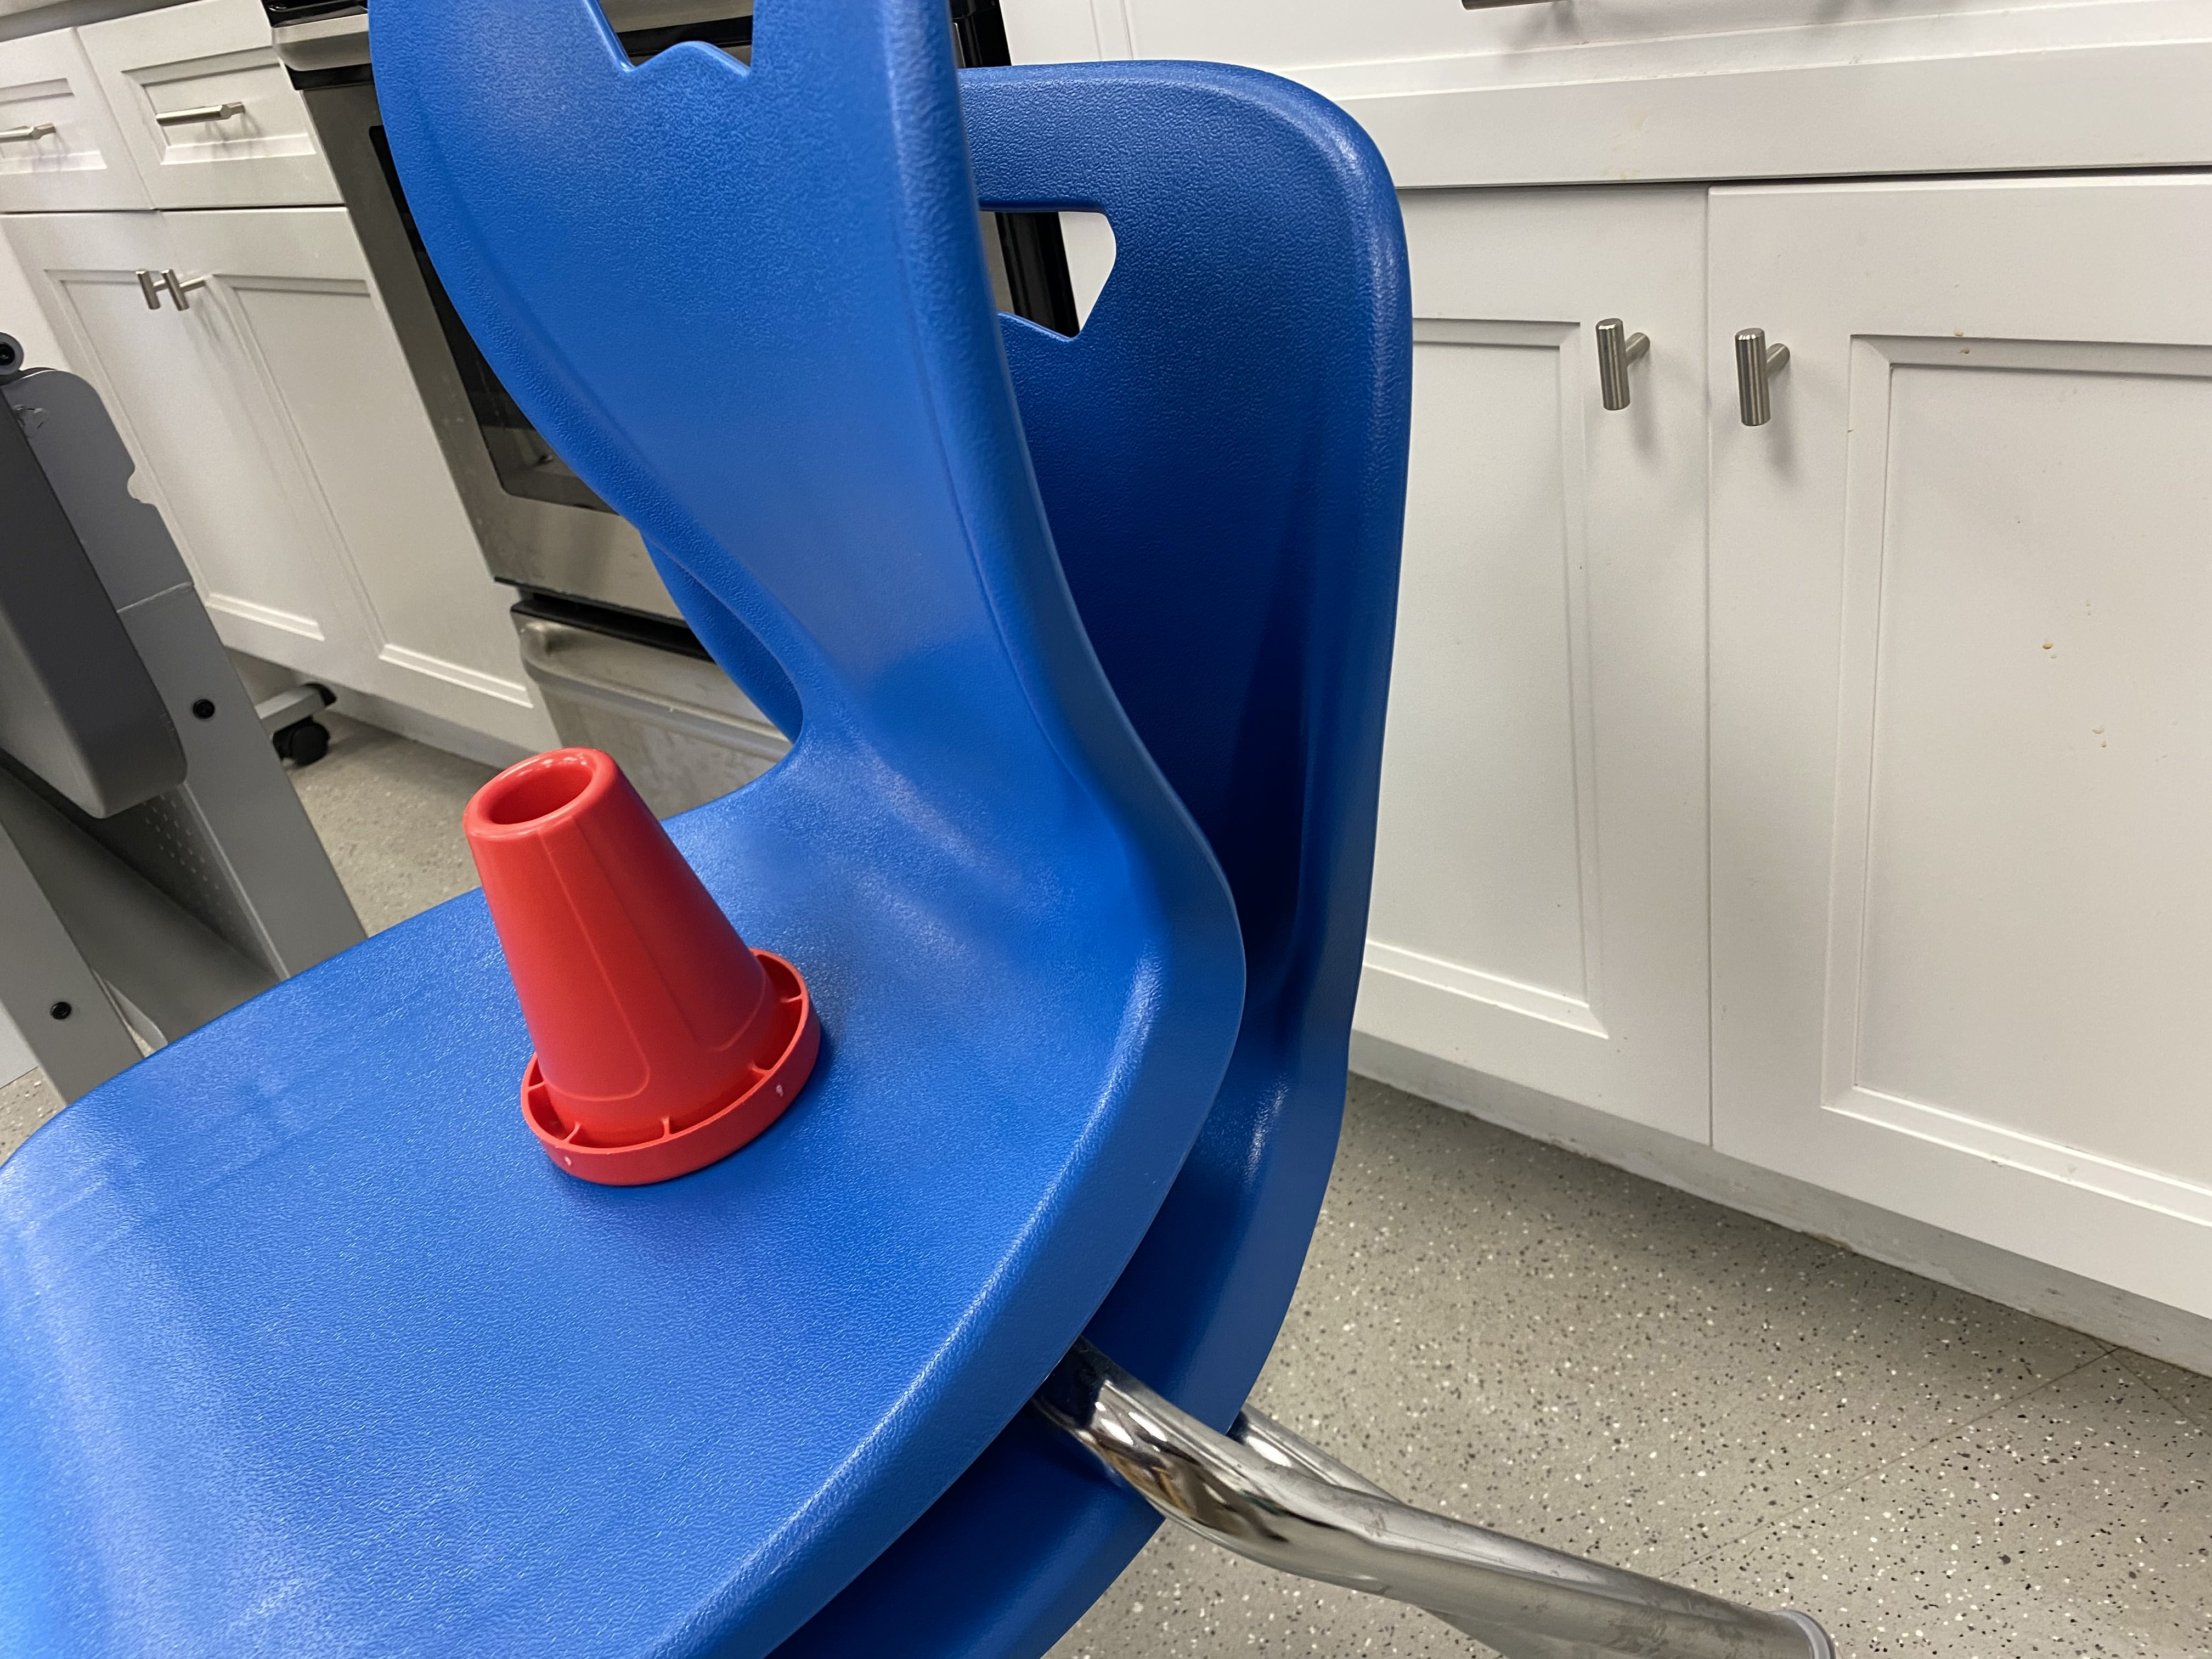redCone: (451, 741, 827, 1194)
